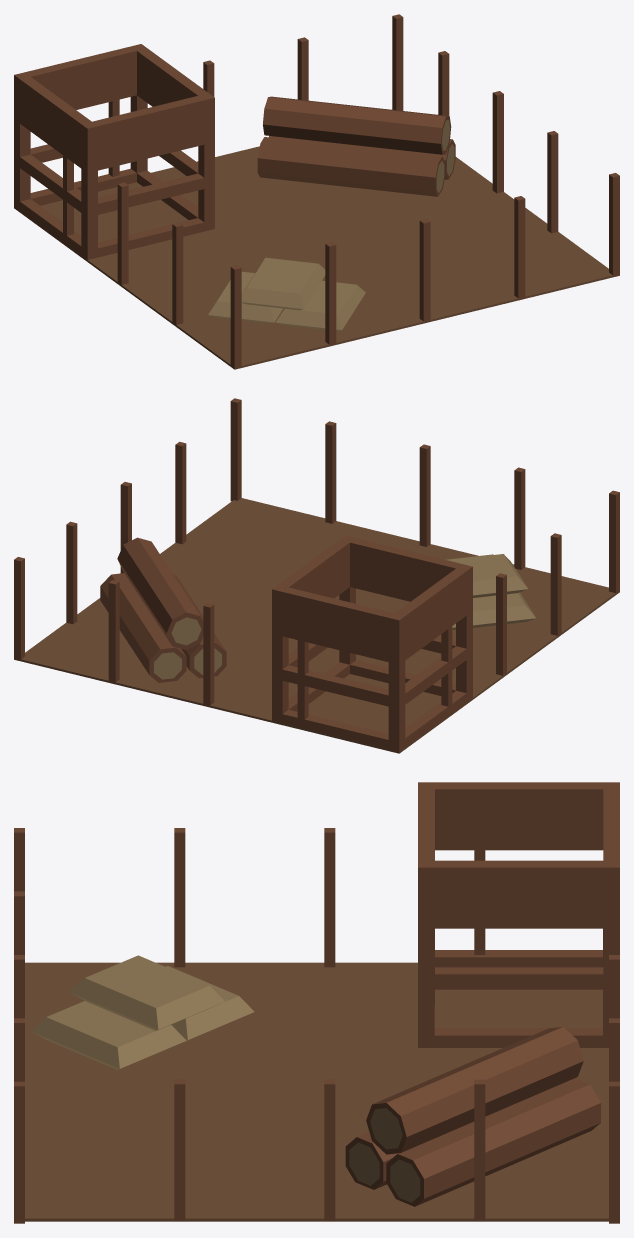
Rendered from FBX - Scaffold.fbx.
The picture shows the model from 3 angles, top to bottom: view 1: azimuth 30°, elevation 25°; view 2: azimuth 150°, elevation 25°; view 3: azimuth 270°, elevation 25°; orthographic projection. The views are drawn at different scales.
Visible parts, largest first — view 1: Ground, Scaffold.001, Plane.002, Plane.003, Fence.001, Fence.002, Cube.004, Fence.003, Fence, Cube.002, Cube.003, Plane; view 2: Ground, Scaffold.001, Fence.001, Fence, Plane.003, Plane, Fence.002, Fence.003, Cube.004, Cube.003, Plane.002; view 3: Ground, Scaffold.001, Plane.003, Plane, Cube.004, Cube.002, Fence.003, Fence.001, Fence.002, Fence, Cube.003, Plane.002.
Boxes of the visible parts, x1=… form: Ground: x1=18, y1=146, x2=612, y2=369; Scaffold.001: x1=14, y1=44, x2=214, y2=259; Plane.002: x1=257, y1=137, x2=445, y2=196; Plane.003: x1=263, y1=96, x2=451, y2=154; Fence.001: x1=230, y1=173, x2=619, y2=369; Fence.002: x1=63, y1=144, x2=183, y2=326; Cube.004: x1=241, y1=257, x2=325, y2=310; Fence.003: x1=438, y1=51, x2=558, y2=233; Fence: x1=14, y1=14, x2=403, y2=210; Cube.002: x1=276, y1=280, x2=365, y2=331; Cube.003: x1=208, y1=271, x2=282, y2=323; Plane: x1=269, y1=136, x2=455, y2=179; Ground: x1=17, y1=498, x2=619, y2=752; Scaffold.001: x1=272, y1=535, x2=472, y2=753; Fence.001: x1=230, y1=398, x2=619, y2=594; Fence: x1=14, y1=557, x2=403, y2=753; Plane.003: x1=117, y1=537, x2=203, y2=649; Plane: x1=100, y1=573, x2=186, y2=682; Fence.002: x1=441, y1=533, x2=561, y2=717; Fence.003: x1=66, y1=441, x2=186, y2=623; Cube.004: x1=448, y1=554, x2=527, y2=597; Cube.003: x1=452, y1=592, x2=535, y2=629; Plane.002: x1=172, y1=573, x2=226, y2=678; Ground: x1=25, y1=962, x2=608, y2=1221; Scaffold.001: x1=418, y1=782, x2=619, y2=1047; Plane.003: x1=366, y1=1026, x2=583, y2=1154; Plane: x1=386, y1=1078, x2=600, y2=1206; Cube.004: x1=69, y1=955, x2=224, y2=1030; Cube.002: x1=31, y1=1001, x2=186, y2=1069; Fence.003: x1=174, y1=1079, x2=485, y2=1221; Fence.001: x1=14, y1=828, x2=24, y2=1223; Fence.002: x1=174, y1=828, x2=485, y2=967; Fence: x1=609, y1=955, x2=619, y2=1223; Cube.003: x1=165, y1=966, x2=254, y2=1040; Plane.002: x1=345, y1=1132, x2=398, y2=1189.
Bounding box in the file's own units: 605 × 200 × 600.
